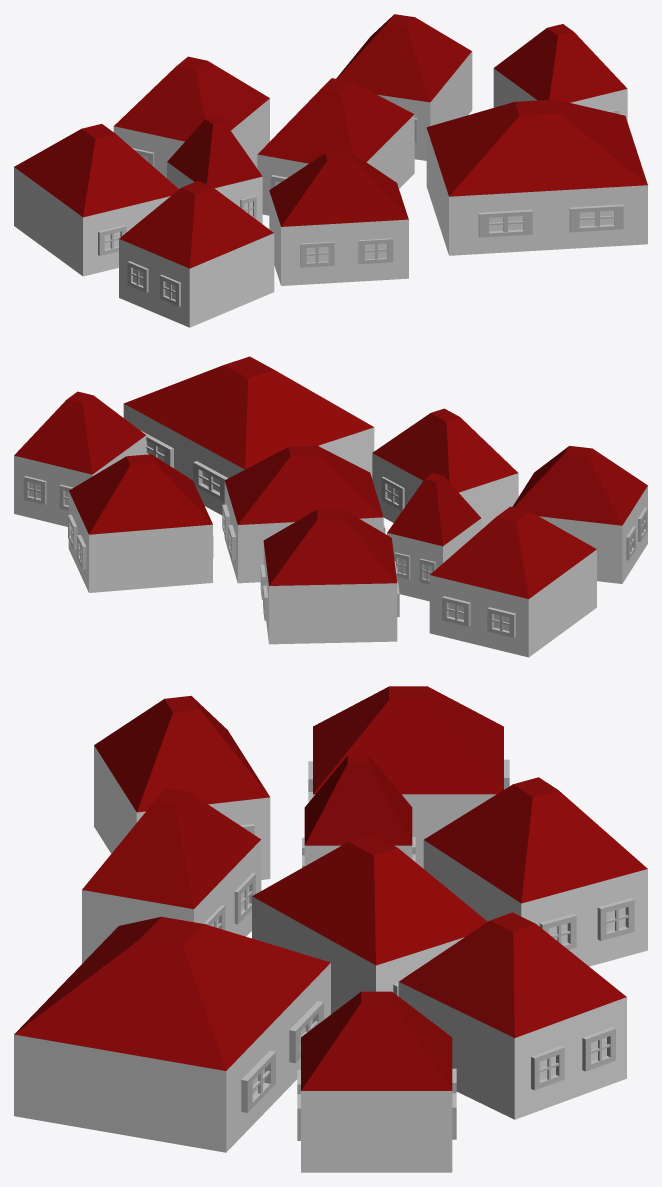
The model's file is Kukicki.fbx.
3 renders of one model, top to bottom at view 1: azimuth 30°, elevation 25°; view 2: azimuth 150°, elevation 25°; view 3: azimuth 270°, elevation 25°, orthographic. The views are drawn at different scales.
Parts seen in each view (by area): view 1: pCube21, pCube18, pCube17, pCube19, pCube15, pCube23, pCube20, pCube22, pCube16; view 2: pCube21, pCube19, pCube23, pCube20, pCube15, pCube18, pCube17, pCube22, pCube16; view 3: pCube21, pCube23, pCube20, pCube22, pCube15, pCube17, pCube19, pCube18, pCube16.
Boxes of the visible parts, left/top/right/bottom form: pCube21: left=426, top=99, right=647, bottom=255; pCube18: left=119, top=181, right=274, bottom=327; pCube17: left=269, top=152, right=408, bottom=285; pCube19: left=14, top=124, right=178, bottom=276; pCube15: left=257, top=78, right=414, bottom=215; pCube23: left=336, top=14, right=472, bottom=160; pCube20: left=113, top=56, right=269, bottom=177; pCube22: left=493, top=24, right=627, bottom=121; pCube16: left=167, top=116, right=262, bottom=223; pCube21: left=123, top=356, right=374, bottom=515; pCube19: left=429, top=506, right=596, bottom=657; pCube23: left=68, top=454, right=213, bottom=592; pCube20: left=260, top=509, right=399, bottom=644; pCube15: left=222, top=445, right=385, bottom=583; pCube18: left=512, top=446, right=647, bottom=583; pCube17: left=372, top=408, right=518, bottom=529; pCube22: left=14, top=391, right=146, bottom=526; pCube16: left=387, top=473, right=481, bottom=601; pCube21: left=14, top=916, right=330, bottom=1152; pCube23: left=398, top=912, right=626, bottom=1119; pCube20: left=423, top=777, right=647, bottom=966; pCube22: left=297, top=991, right=456, bottom=1172; pCube15: left=252, top=834, right=487, bottom=1014; pCube17: left=82, top=788, right=261, bottom=963; pCube19: left=308, top=686, right=509, bottom=868; pCube18: left=94, top=695, right=270, bottom=879; pCube16: left=302, top=755, right=415, bottom=867.
Bounding box in the file's own units: 79488 × 15138 × 58461.
